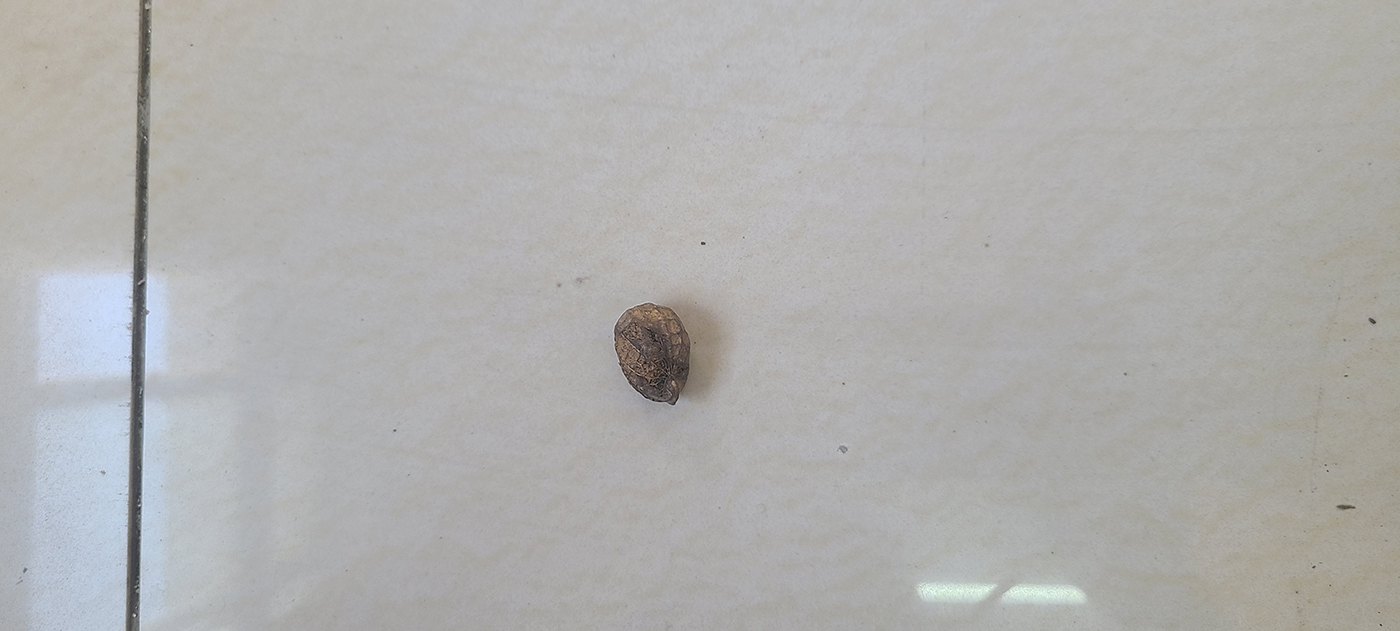l: (611, 303, 691, 409)
